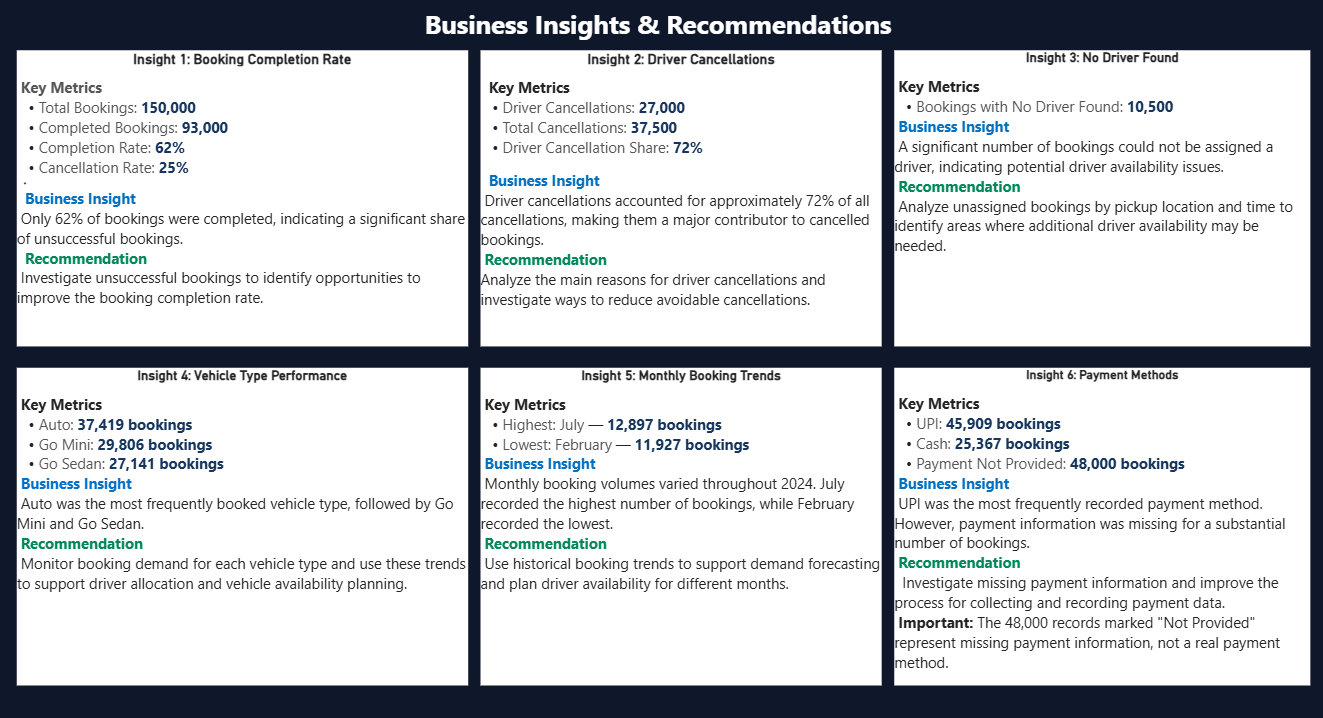

What the dashboard file says about the page in this screenshot:
{"tool":"powerbi","page":{"name":"Business Insights & Recommendations","canvas":[1920,1080],"ordinal":3},"visuals":[{"type":"textbox","box":[10.9,14.5,1889.3,81.4],"z":0},{"type":"textbox","title":"Insight 1: Booking Completion Rate","box":[27.1,95.9,653.3,428.9],"z":1000},{"type":"textbox","title":"Insight 2: Driver Cancellations","box":[698.5,95.9,580.9,428.9],"z":2000},{"type":"textbox","title":"Insight 3: No Driver Found","box":[1297.5,95.9,602.6,428.9],"z":3000},{"type":"textbox","title":"Insight 4: Vehicle Type Performance","box":[27.1,555.6,653.3,459.7],"z":4000},{"type":"textbox","title":"Insight 5: Monthly Booking Trends","box":[698.5,555.6,580.9,459.7],"z":5000},{"type":"textbox","title":"Insight 6: Payment Methods","box":[1297.5,555.6,602.6,459.7],"z":5001}]}

Visuals, with their boxes on the page's 1920x1080 design canvas (x1, y1, x2, y2). These are canvas units, not pixel positions in the 1323x718 screenshot, which may show the page scaled, cropped or inside an application window:
textbox: 11,14,1900,96
"Insight 1: Booking Completion Rate" textbox: 27,96,680,525
"Insight 2: Driver Cancellations" textbox: 698,96,1279,525
"Insight 3: No Driver Found" textbox: 1298,96,1900,525
"Insight 4: Vehicle Type Performance" textbox: 27,556,680,1015
"Insight 5: Monthly Booking Trends" textbox: 698,556,1279,1015
"Insight 6: Payment Methods" textbox: 1298,556,1900,1015
